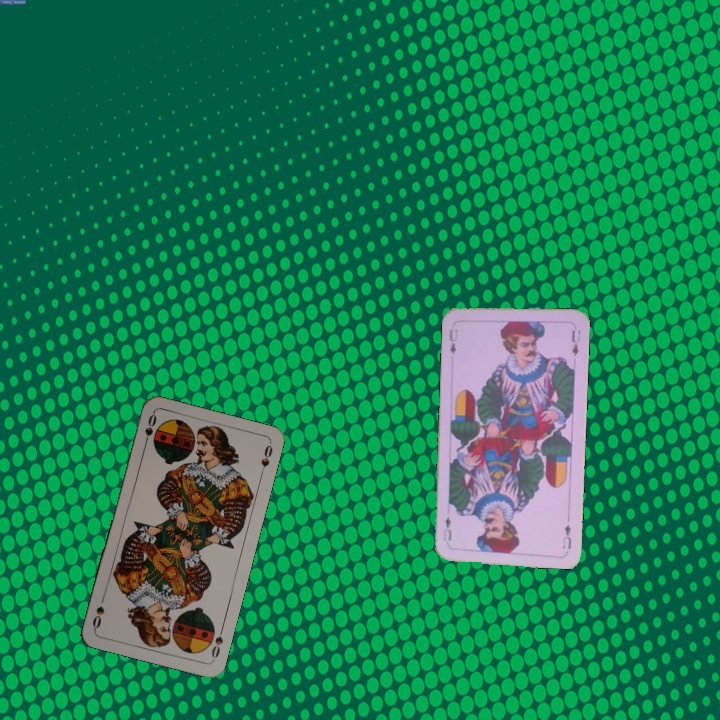EU: (445, 325, 460, 357), (559, 520, 574, 551)
SO: (140, 410, 159, 450), (207, 623, 226, 663)
